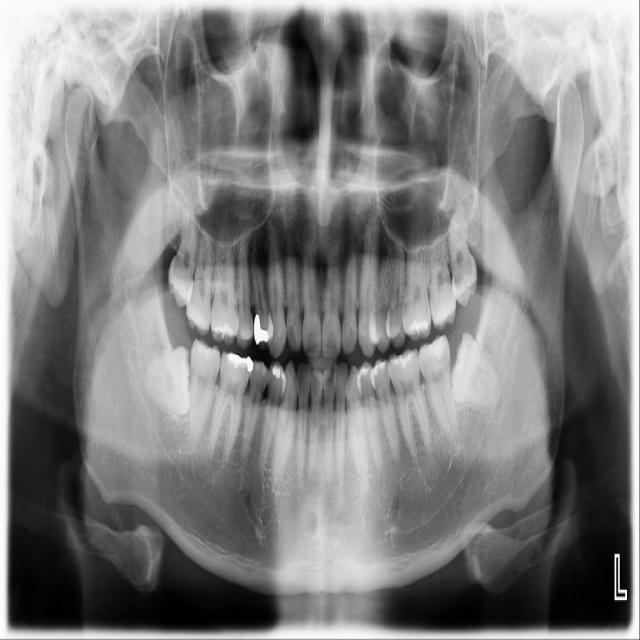3M ESPE Implant: (165, 208, 201, 307)
52: (398, 290, 436, 341), (384, 347, 426, 389), (215, 349, 256, 389), (208, 299, 242, 345), (253, 308, 274, 349), (265, 362, 289, 397), (356, 363, 376, 398), (370, 359, 391, 392)
73: (568, 578, 584, 584)
BioHorizons Implant: (426, 215, 457, 330)
BioLife Implant: (444, 205, 481, 308)
Biomet 3i Implant: (448, 329, 506, 414)
Blue Sky Bio Implant: (416, 333, 458, 438)
Caries: (186, 231, 212, 336)
Implant: (184, 337, 222, 452)
Keystone Dental Implant: (144, 345, 193, 417)
